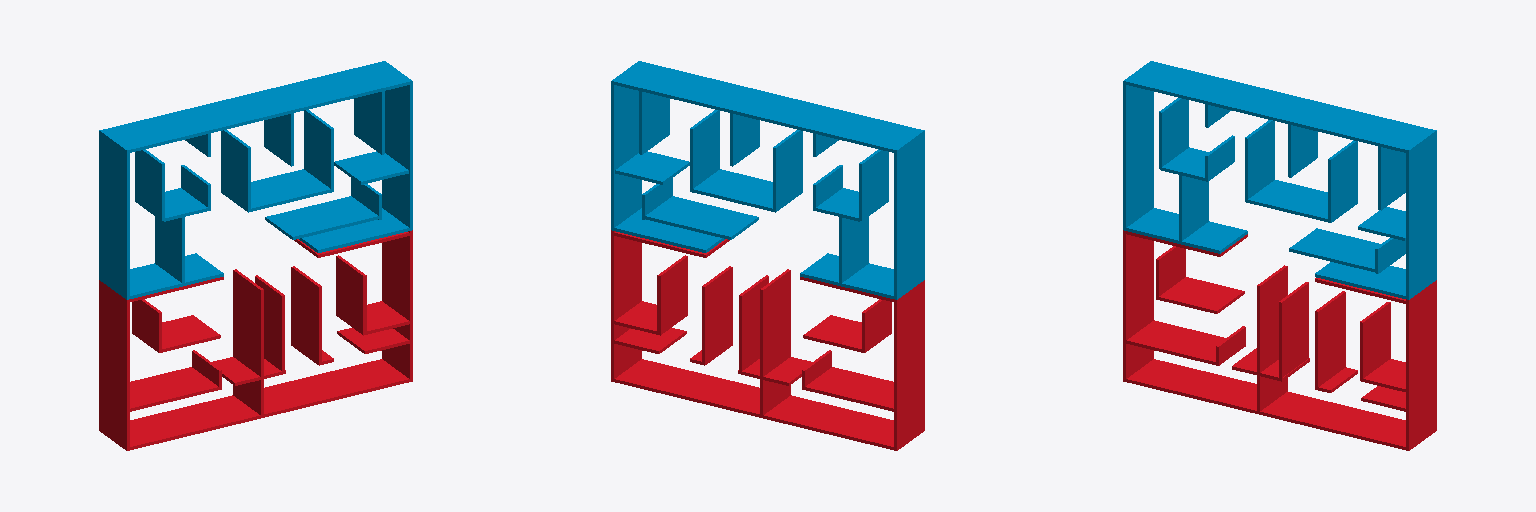
File: map.obj
The picture shows the model from 3 angles: view 1: azimuth 30°, elevation 25°; view 2: azimuth 150°, elevation 25°; view 3: azimuth 330°, elevation 25°; orthographic projection.
Visible parts, largest first — view 1: obj_0; view 2: obj_0; view 3: obj_0.
Boxes of the visible parts, x1=… form: obj_0: x1=99, y1=61, x2=412, y2=450; obj_0: x1=611, y1=61, x2=924, y2=450; obj_0: x1=1123, y1=61, x2=1436, y2=450.
Bounding box in the file's own units: 186 × 187 × 31.